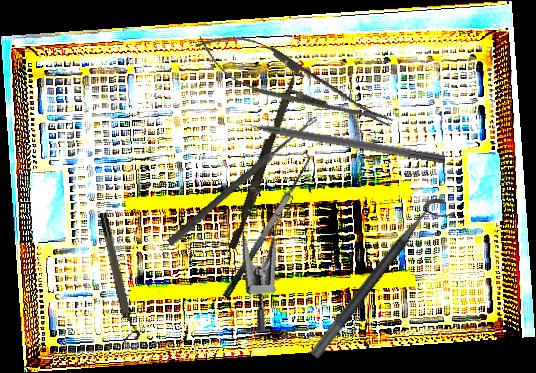Fixation Ring: (308, 191, 458, 370), (96, 210, 142, 343)
Needle Holder: (186, 18, 404, 148)
Pusher: (228, 67, 299, 252), (221, 113, 447, 165)
Spatula Surgical: (210, 148, 319, 300)
Speculum: (219, 175, 326, 335)
Surgical Spoon: (166, 113, 319, 248)
